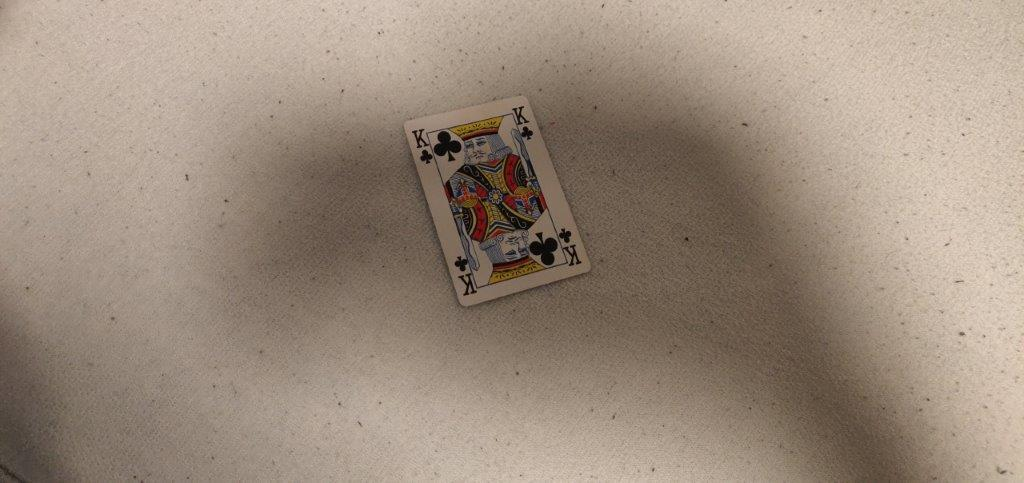KC: (409, 127, 439, 169), (510, 104, 539, 146)
